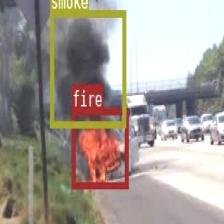fire: (71, 108, 127, 186)
smoke: (50, 9, 126, 127)
